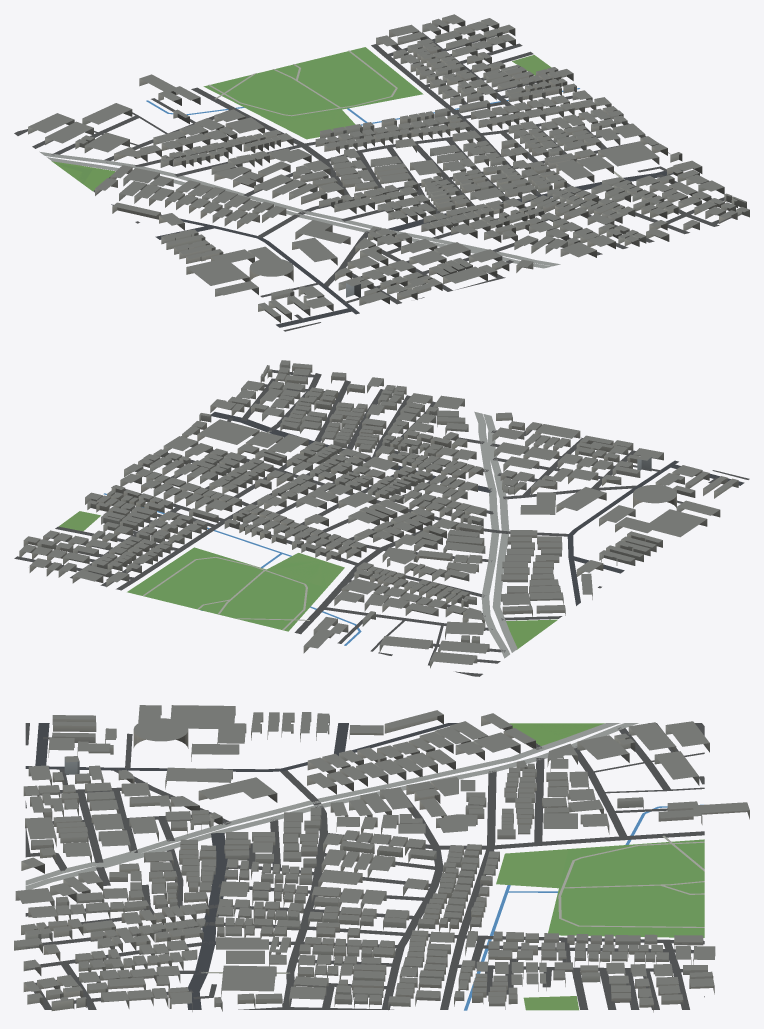
The picture shows the model from 3 angles, top to bottom: view 1: azimuth 30°, elevation 25°; view 2: azimuth 150°, elevation 25°; view 3: azimuth 270°, elevation 25°; orthographic projection. The views are drawn at different scales.
Parts seen in each view (by area): view 1: building, ground; view 2: building, ground; view 3: building, ground, water.
Part boxes in pixels (x1,y1,x2,y2): building: (28,14,749,322); ground: (14,25,741,331); building: (19,360,738,668); ground: (14,370,749,676); building: (14,705,749,1012); ground: (25,723,704,1010); water: (464,804,703,1010).
Bounding box in the file's own units: 523 × 16 × 542.
